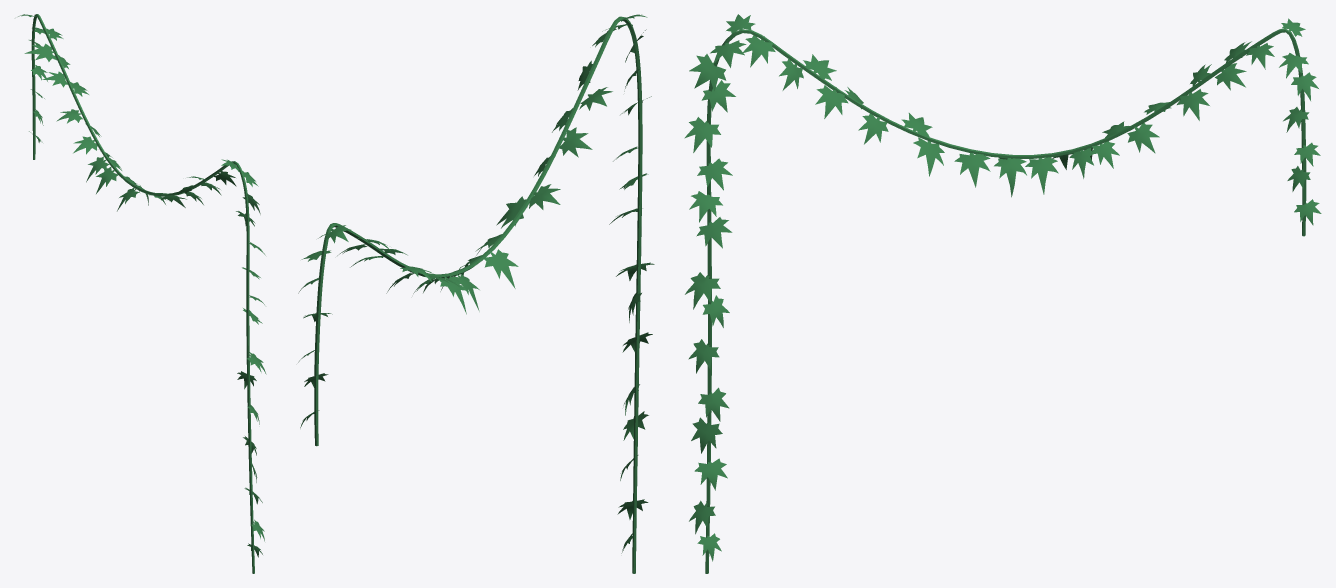
File: vine_hori_F_alangium.fbx
The picture shows the model from 3 angles, left to right: view 1: azimuth 30°, elevation 25°; view 2: azimuth 150°, elevation 25°; view 3: azimuth 270°, elevation 25°; orthographic projection. The views are drawn at different scales.
Parts seen in each view (by area): view 1: vine_hori_F_alangium_root; view 2: vine_hori_F_alangium_root, vine_alangium_A_leaf_B350, vine_alangium_A_leaf_B349; view 3: vine_hori_F_alangium_root.
Part boxes in pixels (box(x1,y1,x2,y2)): vine_hori_F_alangium_root: box(31, 14, 254, 573); vine_hori_F_alangium_root: box(314, 16, 642, 573); vine_alangium_A_leaf_B350: box(484, 249, 518, 288); vine_alangium_A_leaf_B349: box(559, 127, 592, 157); vine_hori_F_alangium_root: box(705, 28, 1306, 573).
Bounding box in the file's own units: 56.73 × 455 × 480.
